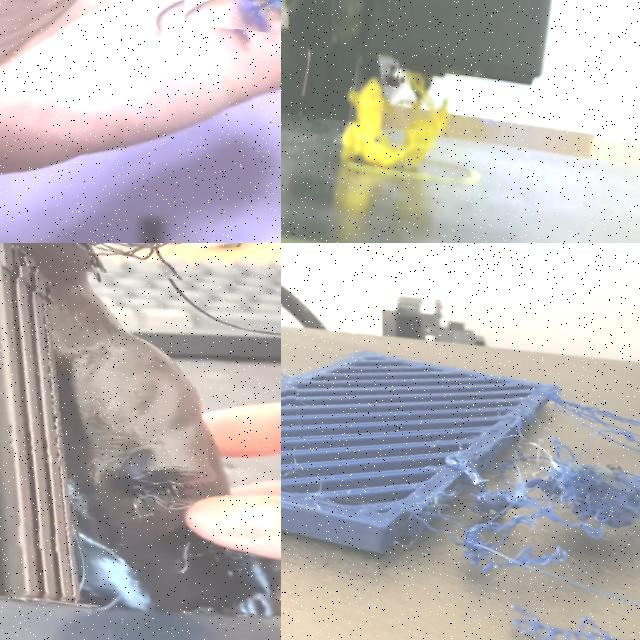spaghetti: (395, 354, 640, 640), (7, 243, 281, 312), (340, 79, 447, 169), (281, 463, 308, 550), (281, 349, 300, 410), (409, 73, 427, 110)
